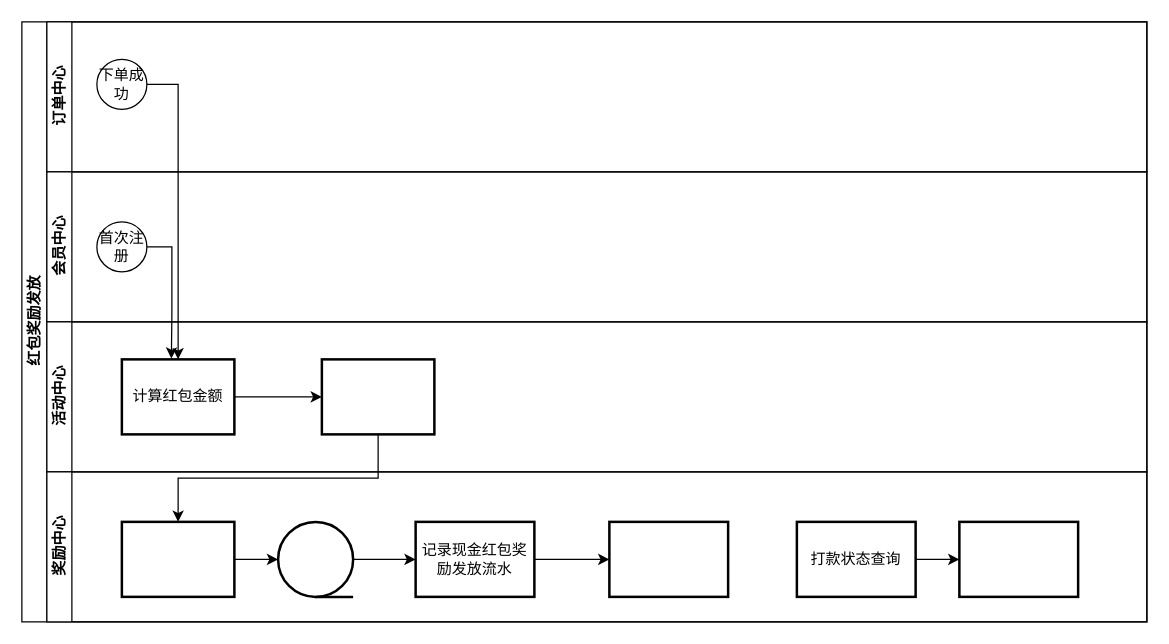
This 1169x644 diagram has some shape labels left out. Here are the shapes that lost their labels. From the top down, the centre of each, then its label:
At [377,396]: "生成红包发放记录".
At [177,559]: "红包发放接口".
At [315,559]: "红包发放队列".
At [668,559]: "申请发放进入打款计划".
At [1018,559]: "红包发放状态回写".
